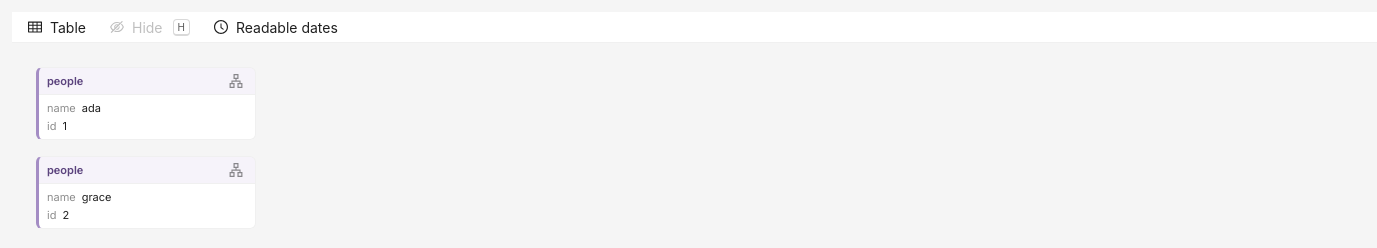
Test case: clicking a card shows its whole row at the side, and opens nothing
Click the element named "people 2" at (146, 192), box [36,156,256,229]
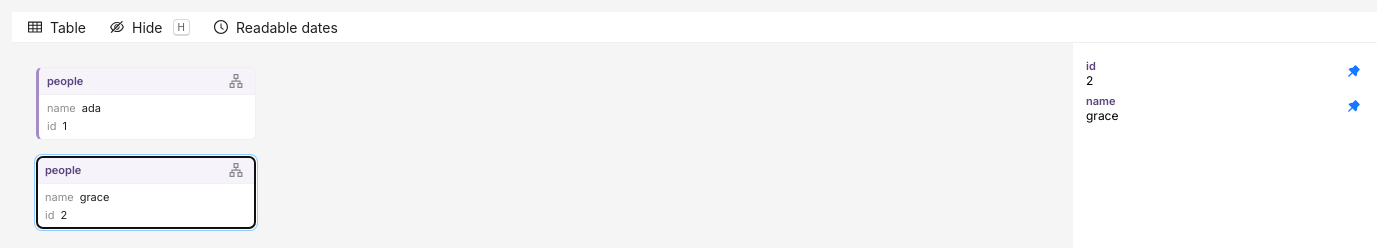
Check: the 1st text "grace" is shown, box [1086,108,1118,123]
